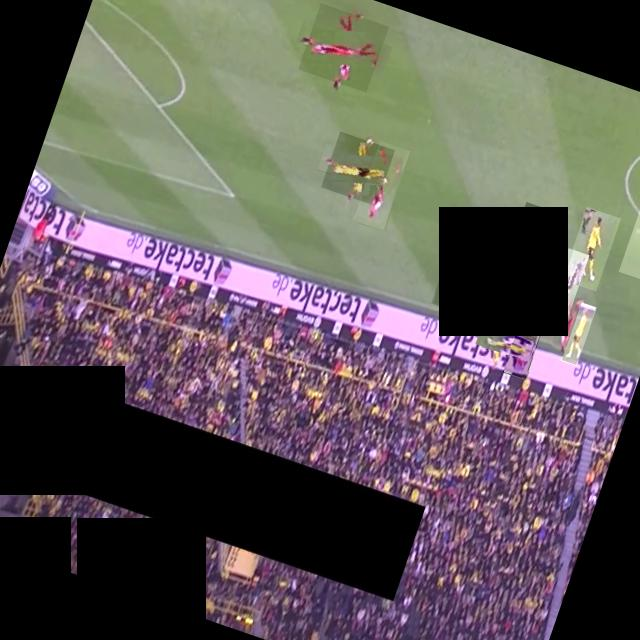referee: (546, 248, 588, 319)
soccer-player: (297, 2, 388, 92), (320, 131, 394, 206), (352, 140, 410, 230), (562, 206, 620, 292), (502, 202, 557, 282), (430, 240, 480, 313), (502, 314, 544, 380), (548, 288, 588, 356), (478, 316, 530, 367), (618, 183, 640, 286), (561, 302, 596, 366)
